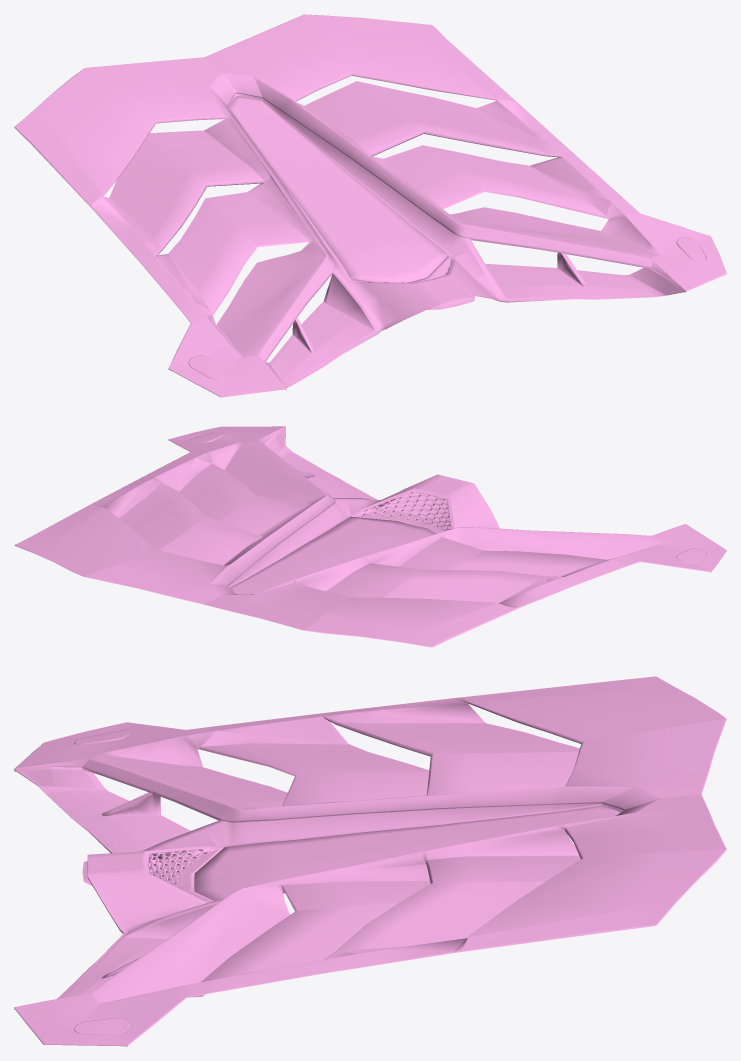
3 renders of one model, top to bottom at view 1: azimuth 30°, elevation 25°; view 2: azimuth 150°, elevation 25°; view 3: azimuth 270°, elevation 25°, orthographic. The views are drawn at different scales.
Visible parts, largest first — view 1: EngineHood_2; view 2: EngineHood_2; view 3: EngineHood_2.
Part boxes in pixels (<box>): EngineHood_2: <box>14,14,726,397</box>; EngineHood_2: <box>14,426,726,647</box>; EngineHood_2: <box>14,676,726,1046</box>.
Bounding box in the file's own units: 1.47 × 0.2489 × 1.37.
